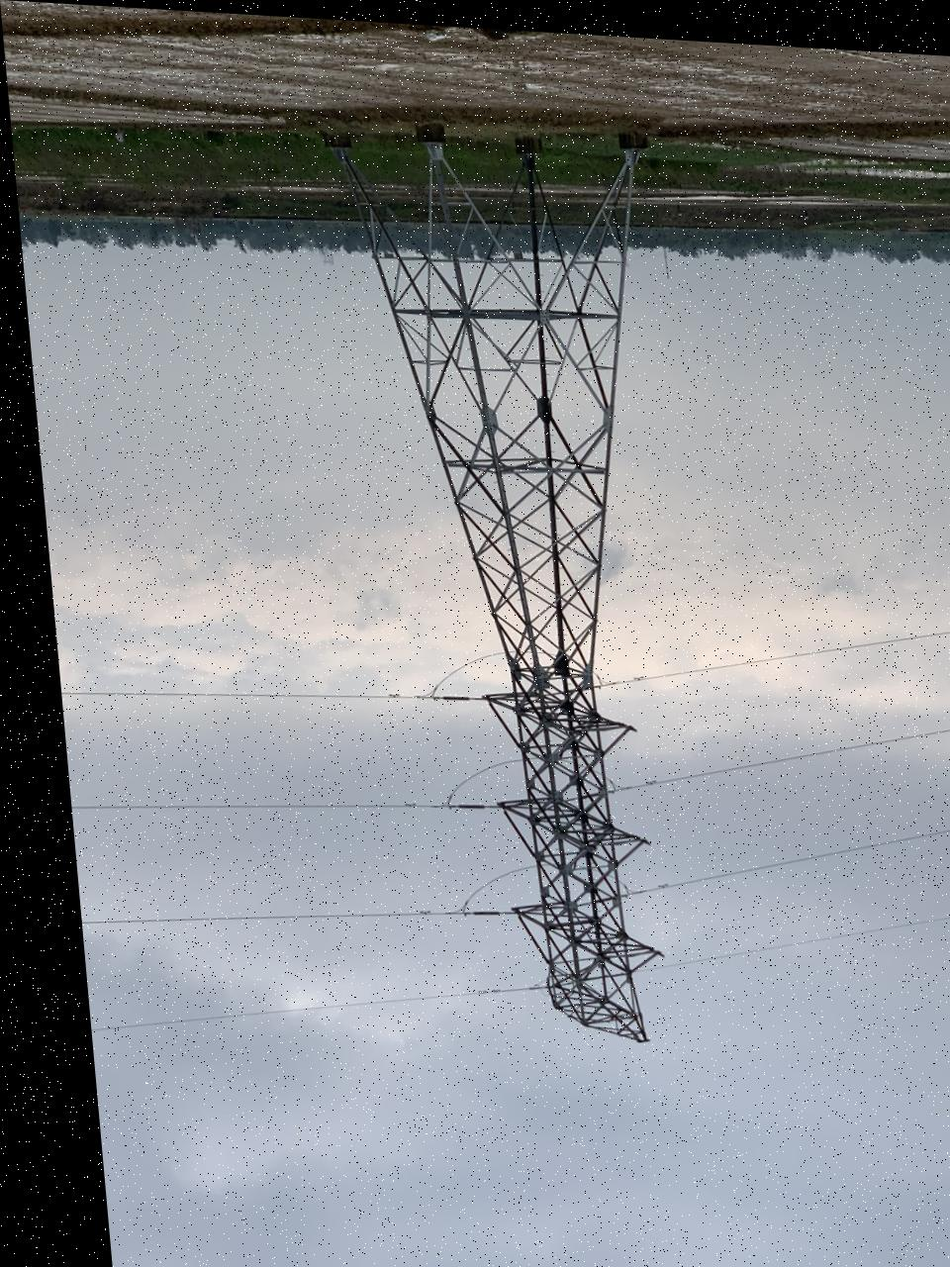tower: (354, 106, 745, 1068)
